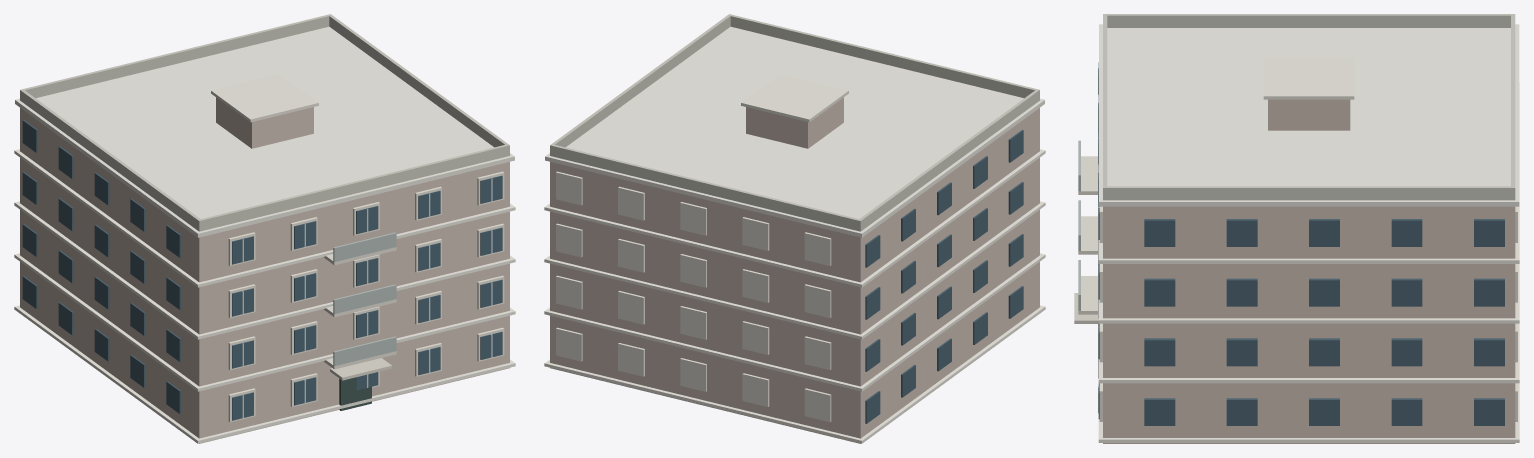
The picture shows the model from 3 angles, left to right: view 1: azimuth 30°, elevation 25°; view 2: azimuth 150°, elevation 25°; view 3: azimuth 270°, elevation 25°; orthographic projection. The views are drawn at different scales.
Size of the model in its own units: 20.44 by 14.98 by 21.62.
